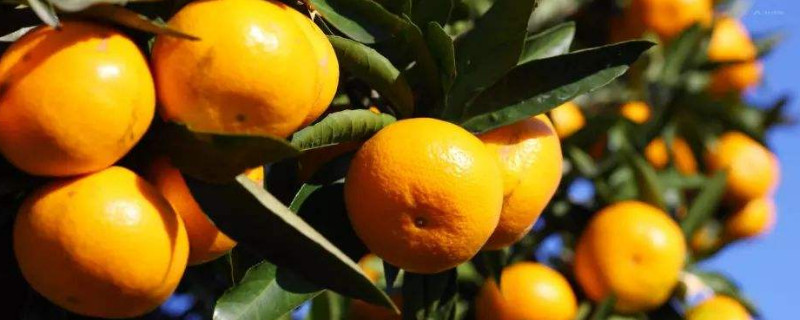orange: (15, 166, 188, 320), (154, 1, 338, 138), (1, 26, 155, 178), (347, 119, 499, 269), (440, 97, 564, 244), (155, 138, 264, 266), (577, 202, 686, 306), (479, 262, 577, 320)
